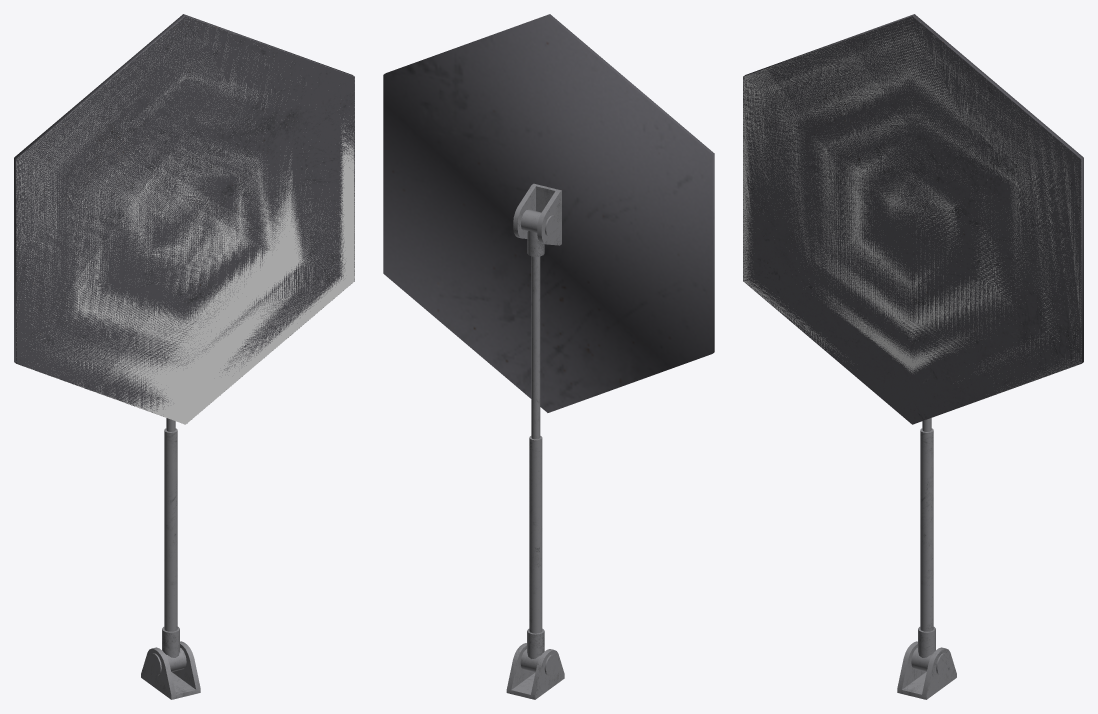
Rendered from ShooterTrainning_TargetSign.fbx.
3 renders of one model, left to right at view 1: azimuth 30°, elevation 25°; view 2: azimuth 150°, elevation 25°; view 3: azimuth 330°, elevation 25°, orthographic. The views are drawn at different scales.
Visible parts, largest first — view 1: Target, Score1, Score5, Score4, Score2, Score3, Score6, Score8, Score7, Steam1, Score9, Base (+2 smaller); view 2: Target, Steam1, BaseTarget, Stem2, Base, BaseJointTarget, BaseJoint; view 3: Target, Score3, Score1, Score4, Score6, Score2, Score5, Score7, Steam1, Base, Score8, Score9 (+2 smaller).
Part boxes in pixels (bbox=[...]): Target: bbox=[14, 14, 354, 423]; Score1: bbox=[16, 18, 354, 424]; Score5: bbox=[82, 96, 289, 345]; Score4: bbox=[65, 75, 305, 365]; Score2: bbox=[32, 38, 338, 404]; Score3: bbox=[49, 57, 321, 384]; Score6: bbox=[98, 115, 272, 325]; Score8: bbox=[131, 154, 240, 285]; Score7: bbox=[114, 135, 256, 298]; Steam1: bbox=[164, 428, 177, 631]; Score9: bbox=[147, 174, 223, 265]; Base: bbox=[141, 641, 200, 699]; Target: bbox=[383, 14, 714, 412]; Steam1: bbox=[529, 436, 542, 633]; BaseTarget: bbox=[513, 183, 561, 245]; Stem2: bbox=[531, 256, 540, 439]; Base: bbox=[506, 643, 564, 699]; BaseJointTarget: bbox=[520, 209, 556, 256]; BaseJoint: bbox=[520, 628, 556, 675]; Target: bbox=[743, 14, 1083, 424]; Score3: bbox=[776, 55, 1048, 373]; Score1: bbox=[743, 17, 1081, 412]; Score4: bbox=[792, 75, 1032, 365]; Score6: bbox=[825, 115, 999, 325]; Score2: bbox=[759, 36, 1065, 383]; Score5: bbox=[808, 96, 1015, 341]; Score7: bbox=[841, 138, 983, 304]; Steam1: bbox=[920, 428, 933, 631]; Base: bbox=[897, 641, 956, 699]; Score8: bbox=[857, 157, 960, 285]; Score9: bbox=[874, 174, 950, 257].
Size of the model in its own units: 1.73 by 3.33 by 0.2692.
